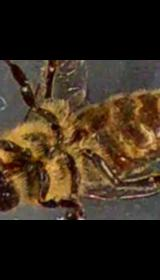varroa_mite: (110, 149, 138, 174)
